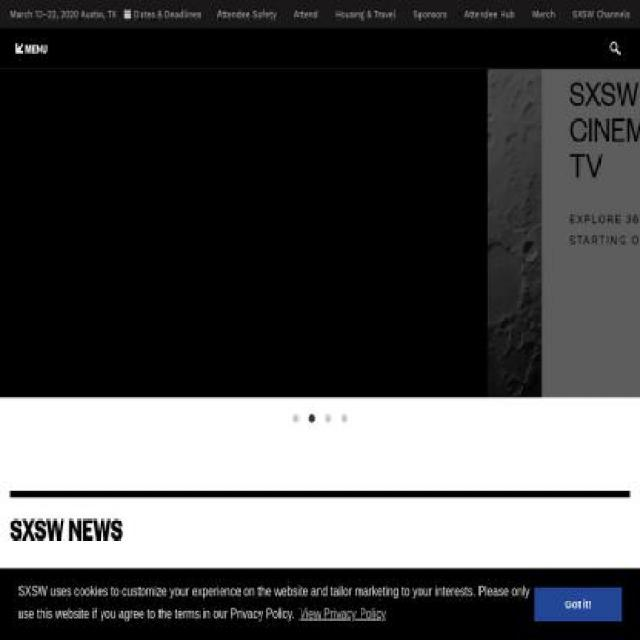button: (25, 92, 272, 145), (0, 385, 640, 403), (534, 587, 623, 621), (297, 601, 388, 627), (10, 36, 53, 61), (610, 40, 621, 54)
